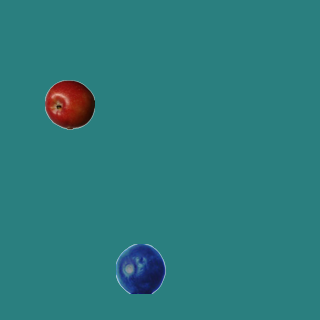Apple Braeburn: (44, 79, 94, 129)
Huckleberry: (115, 243, 165, 293)
